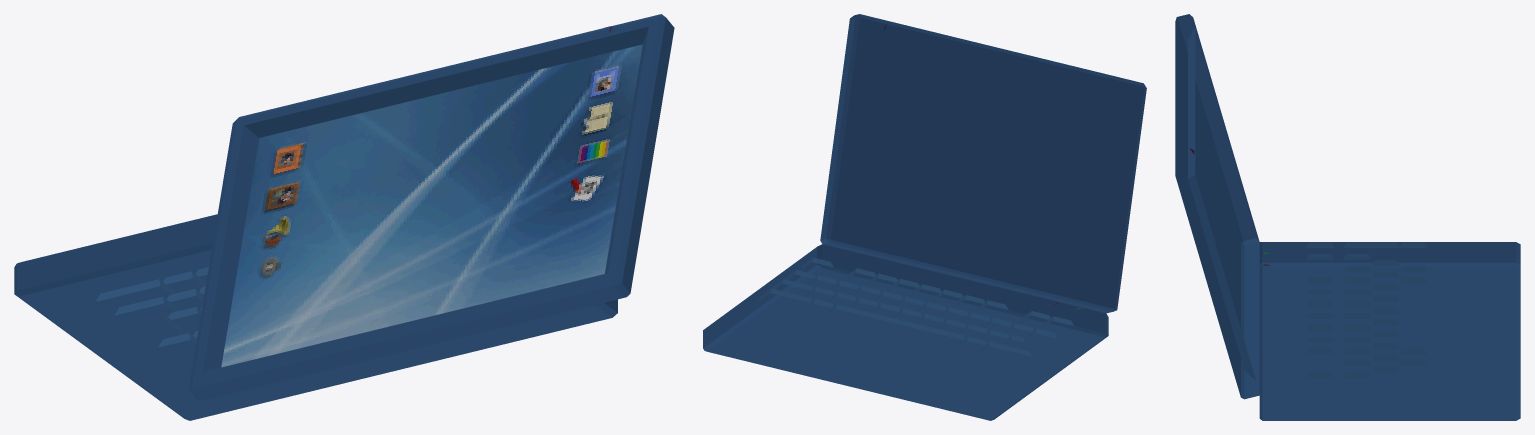
Rendered from ps2_save-icons_thefantasyrenaiadventure.glb.
The picture shows the model from 3 angles, left to right: view 1: azimuth 30°, elevation 25°; view 2: azimuth 150°, elevation 25°; view 3: azimuth 270°, elevation 25°; orthographic projection. The views are drawn at different scales.
Parts seen in each view (by area): view 1: sekiban.ico; view 2: sekiban.ico; view 3: sekiban.ico.
Boxes of the visible parts, x1,y1,x2,y2 form: sekiban.ico: (14, 14, 674, 420); sekiban.ico: (703, 14, 1146, 420); sekiban.ico: (1175, 14, 1520, 420).
Bounding box in the file's own units: 5 × 3.75 × 4.63.
1 material, 1 textured.
